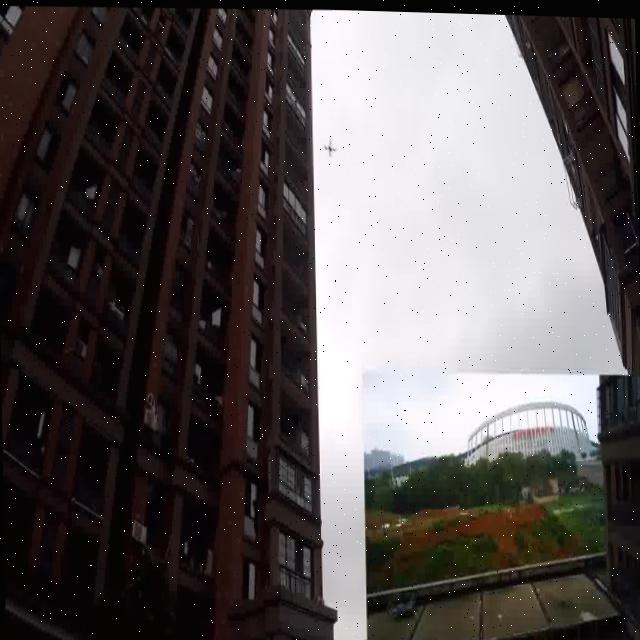drone: (321, 134, 338, 156)
